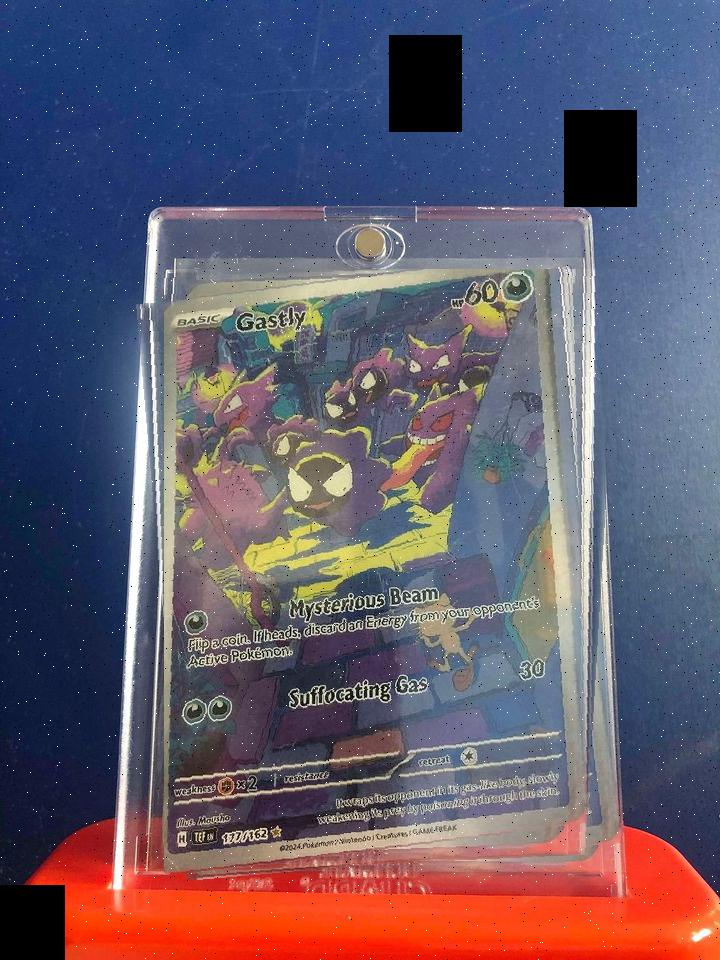card: (164, 269, 588, 874)
